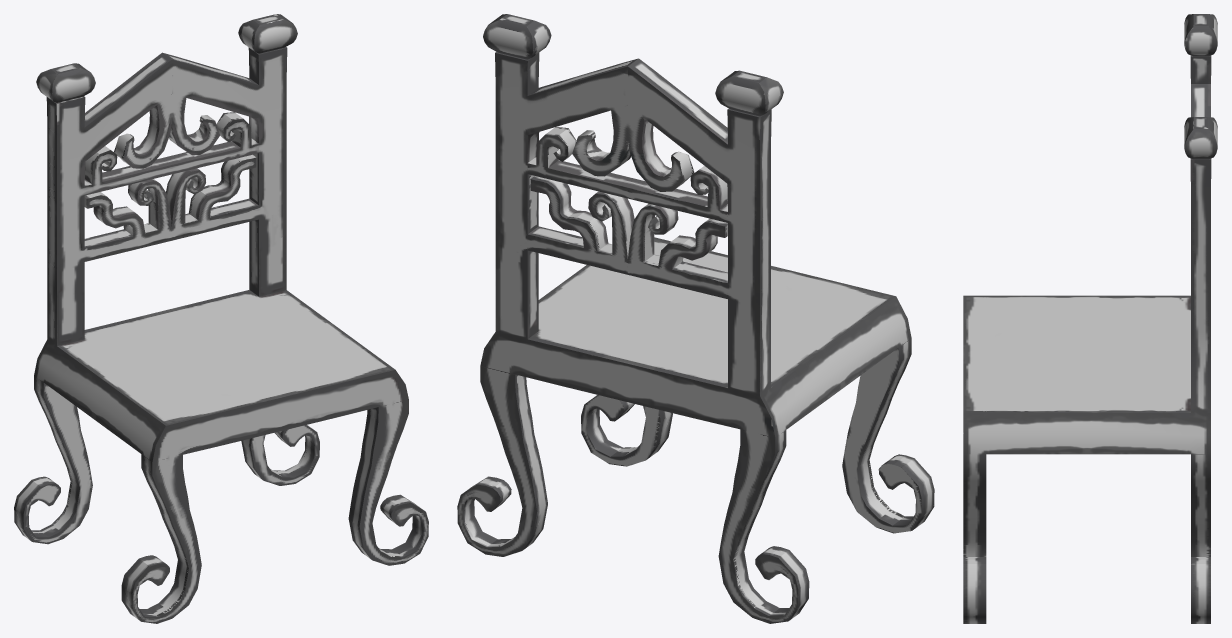
File: SILLA.fbx
3 views of the same model, side by side, from view 1: azimuth 30°, elevation 25°; view 2: azimuth 150°, elevation 25°; view 3: azimuth 270°, elevation 25° (orthographic). The views are drawn at different scales.
Parts seen in each view (by area): view 1: Cube.001; view 2: Cube.001; view 3: Cube.001.
Part boxes in pixels (x1,y1,x2,y2): Cube.001: (14, 14, 428, 623); Cube.001: (457, 14, 934, 623); Cube.001: (963, 14, 1217, 623).
Size of the model in its own units: 697 by 1048 by 495.
1 material, 1 textured.
